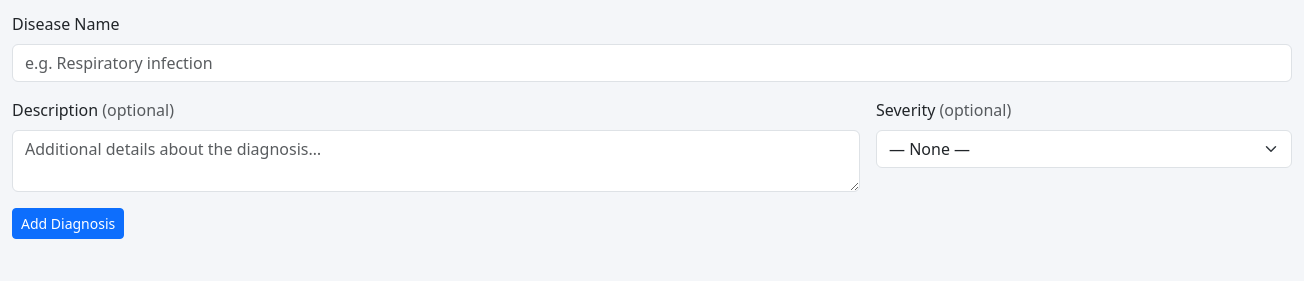
it: DiagnosisForm › clears the validation error once the user starts typing a disease name
Click the button "Add Diagnosis" at (68, 224), box 12,208 -> 124,239
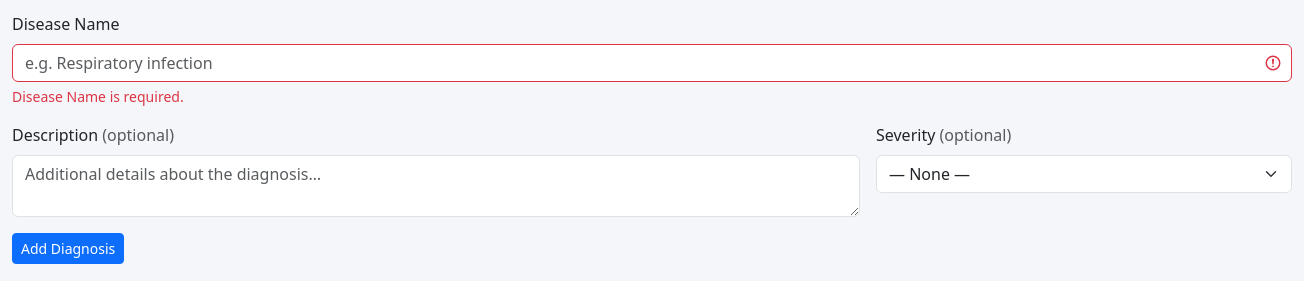
Type "Respiratory infection" into the field labelled "Disease Name" at (652, 63), box 12,44 -> 1292,82
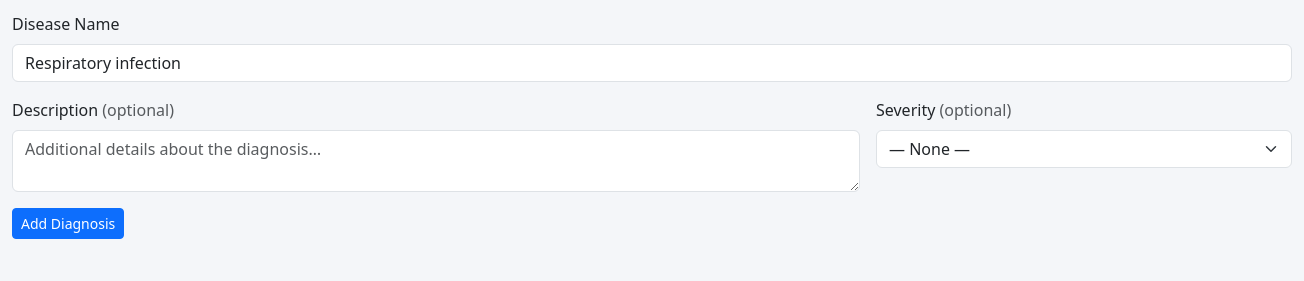
Check: the text "Disease Name is required." is gone
